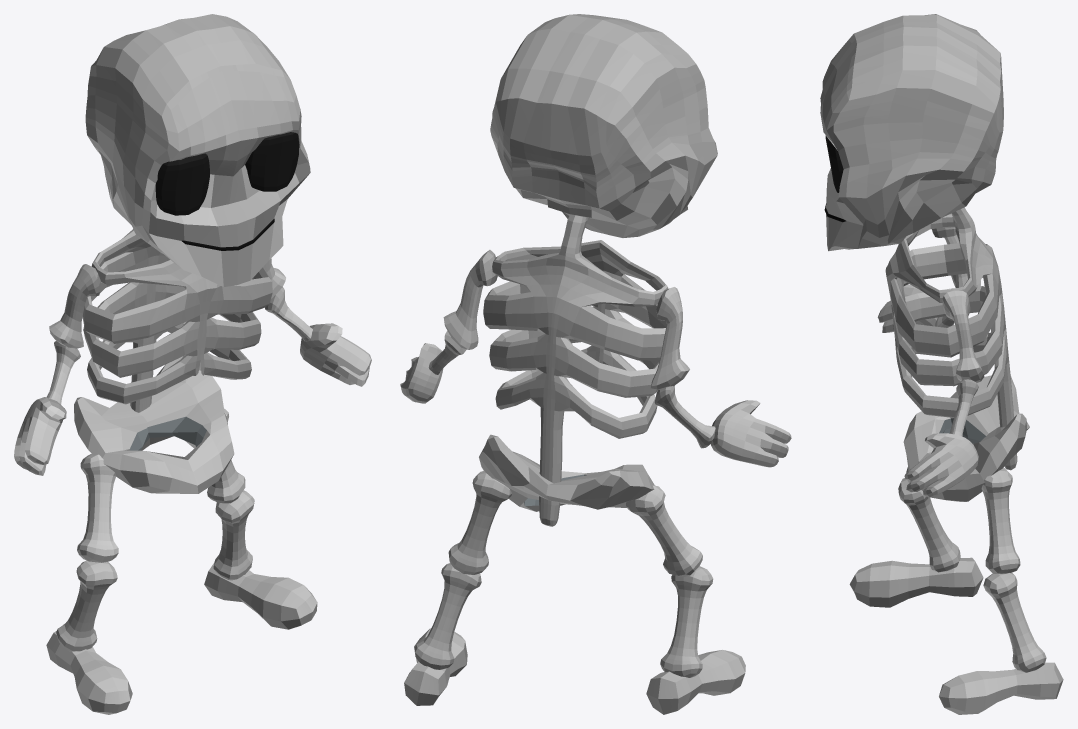
File: skeleton_Pose.fbx
The picture shows the model from 3 angles, left to right: view 1: azimuth 30°, elevation 25°; view 2: azimuth 150°, elevation 25°; view 3: azimuth 270°, elevation 25°; orthographic projection. The views are drawn at different scales.
Visible parts, largest first — view 1: Cube.004; view 2: Cube.004; view 3: Cube.004.
Part boxes in pixels (x1,y1,x2,y2): Cube.004: [14, 14, 371, 714]; Cube.004: [400, 14, 791, 714]; Cube.004: [820, 14, 1063, 714].
Bounding box in the file's own units: 192 × 328 × 115.
